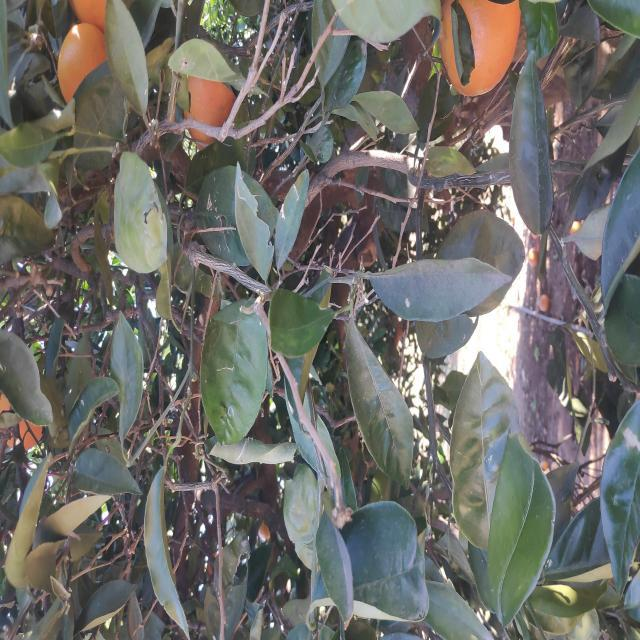Jeruk Sudah Matang: (542, 436, 640, 532), (502, 180, 570, 234), (542, 57, 612, 108), (609, 68, 640, 134)
